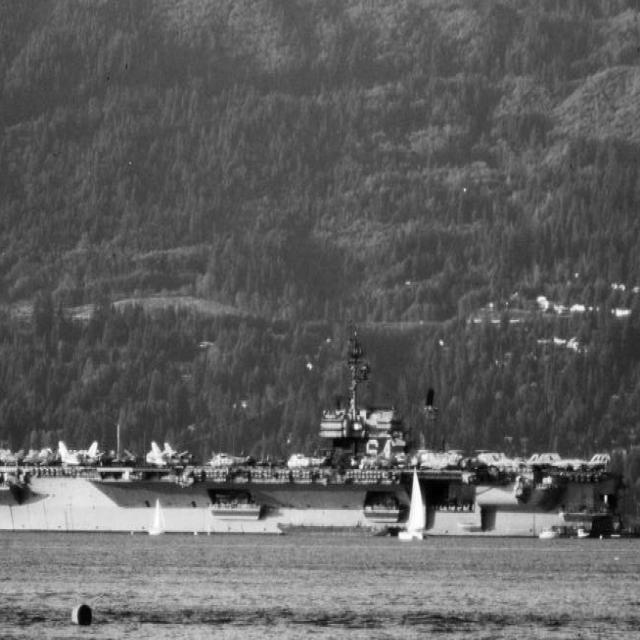Portanaves: (1, 327, 632, 539)
